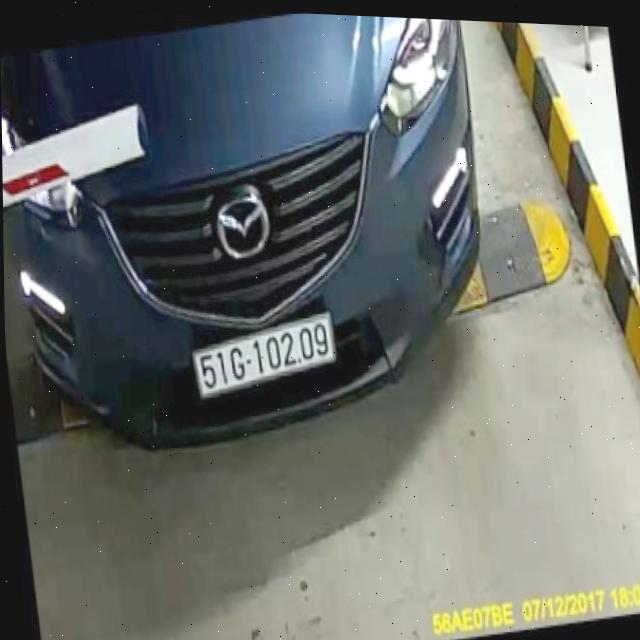car: (0, 0, 501, 474)
plate: (185, 301, 344, 408)
